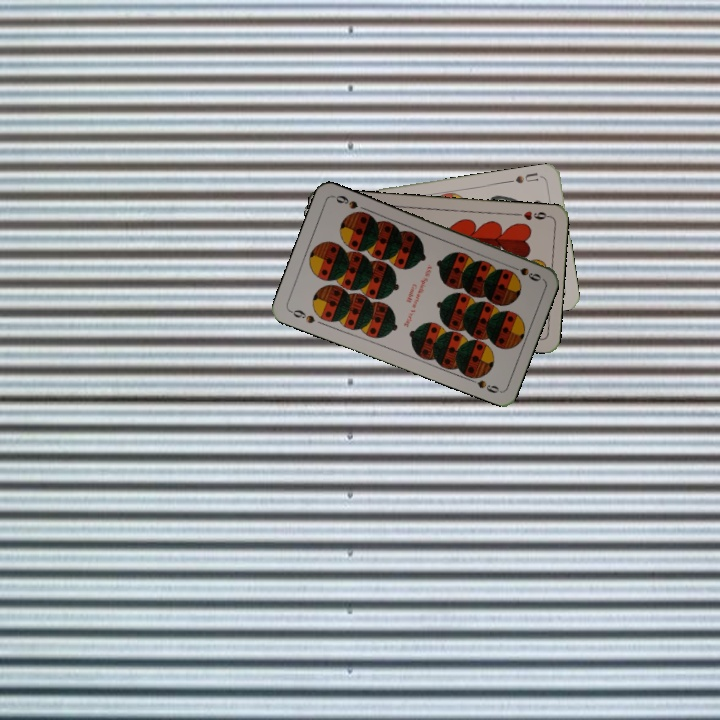H9: (511, 207, 552, 223)
S9: (505, 261, 544, 284), (286, 305, 318, 326)
SU: (511, 169, 546, 186)
